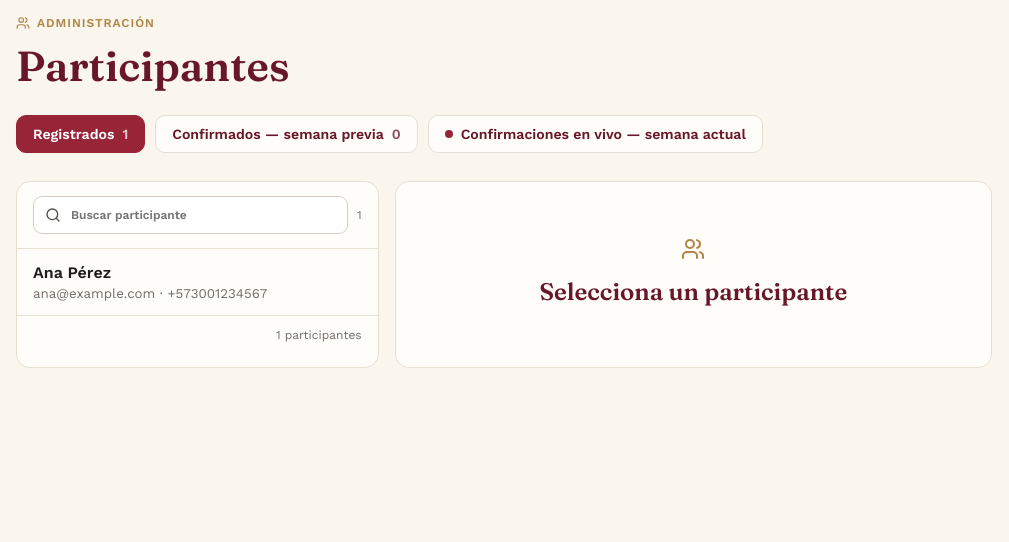
ParticipantsPanel · modo local (auth.configured=false) › las pestañas 'semana previa' y 'en vivo' no tienen datos en modo local
Click the button "Confirmados — semana previa 0" at x=286, y=134, box [155, 115, 418, 153]
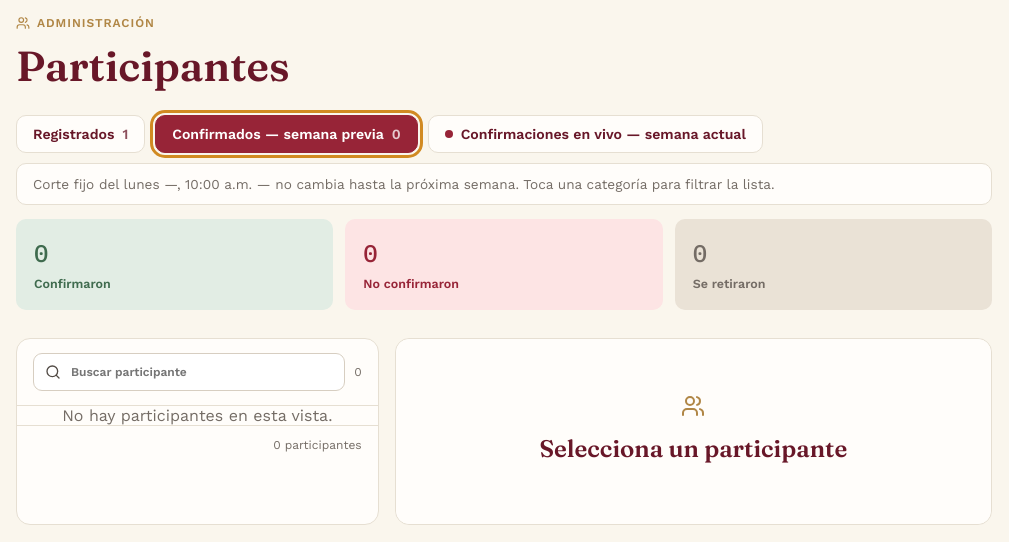
Now the text "No hay participantes en esta vista." is shown, box [62, 406, 332, 425]
Click the button "Confirmaciones en vivo — semana actual" at x=595, y=134, box [428, 115, 763, 153]
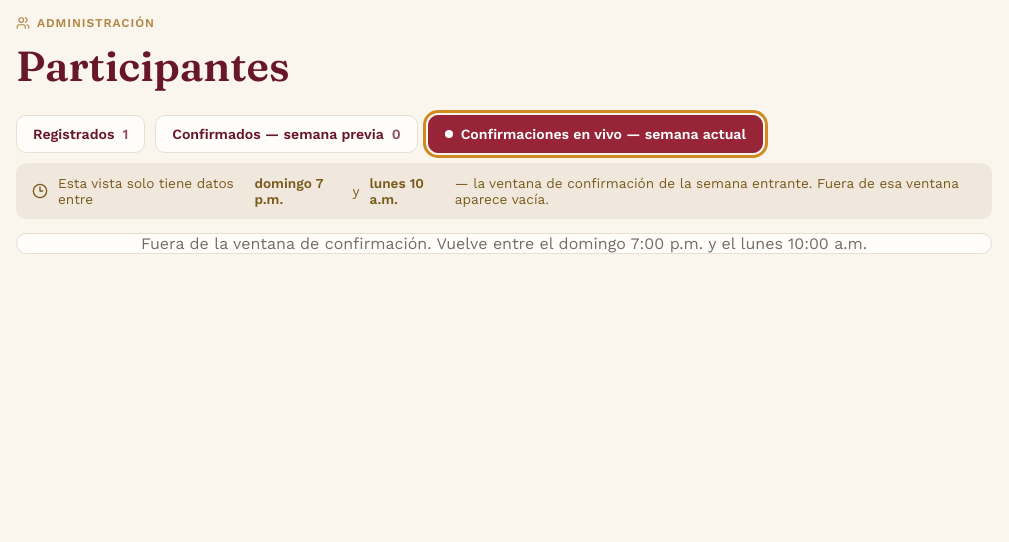
Now the text "Fuera de la ventana de confirmación" is shown, box [141, 234, 867, 253]
